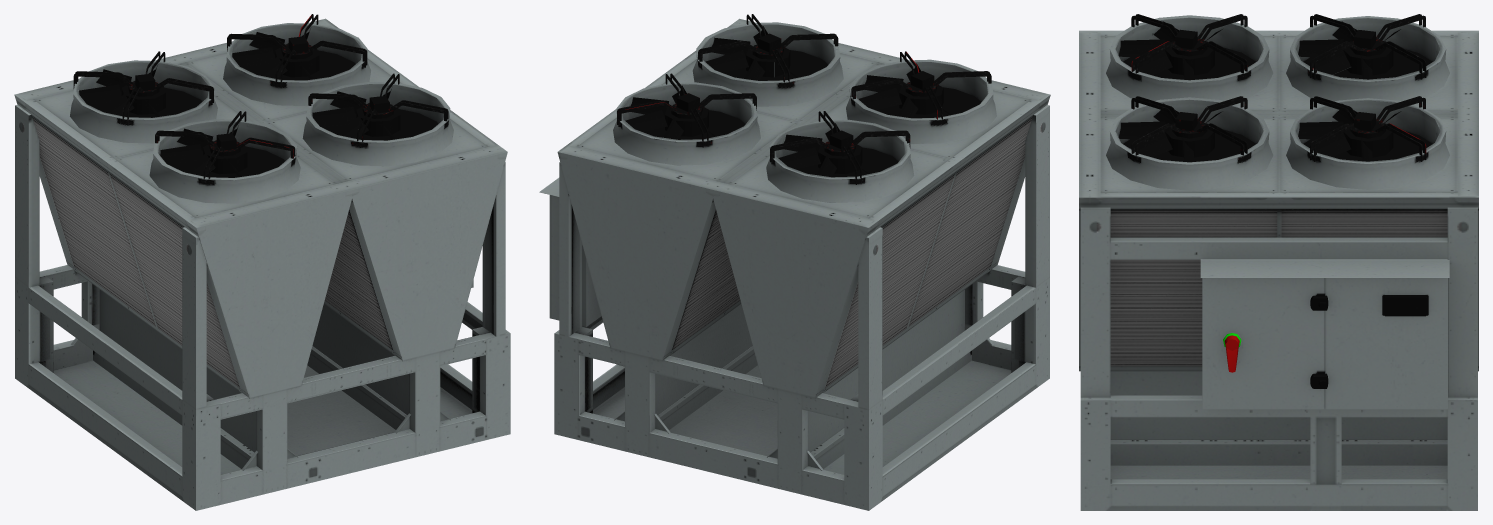
Rendered from Sysaqua-Expo_2K_Diffuse.glb.
The picture shows the model from 3 angles, left to right: view 1: azimuth 30°, elevation 25°; view 2: azimuth 150°, elevation 25°; view 3: azimuth 270°, elevation 25°; orthographic projection. The views are drawn at different scales.
Visible parts, largest first — view 1: Sysaqua-Expo; view 2: Sysaqua-Expo; view 3: Sysaqua-Expo.
Part boxes in pixels (left/top/right/bottom): Sysaqua-Expo: left=14, top=14, right=510, bottom=510; Sysaqua-Expo: left=539, top=14, right=1050, bottom=510; Sysaqua-Expo: left=1079, top=14, right=1478, bottom=510.
Bounding box in the file's own units: 2.36 × 2.1 × 2.17.
Materials: 1 (1 with a texture image).
